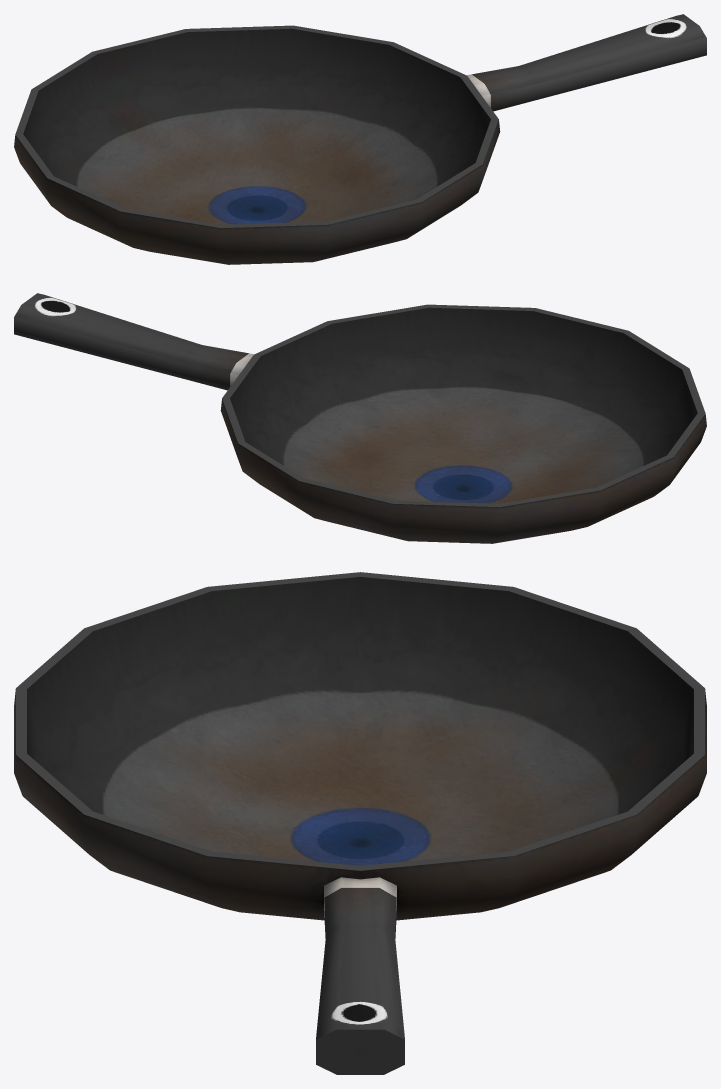
The model's file is Frying_Pan.FBX.
3 renders of one model, top to bottom at view 1: azimuth 30°, elevation 25°; view 2: azimuth 150°, elevation 25°; view 3: azimuth 270°, elevation 25°, orthographic. The views are drawn at different scales.
Visible parts, largest first — view 1: mafia_frying_pan; view 2: mafia_frying_pan; view 3: mafia_frying_pan.
Boxes of the visible parts, box(x1,y1,x2,y2) form: mafia_frying_pan: box(14, 14, 706, 264); mafia_frying_pan: box(14, 293, 706, 543); mafia_frying_pan: box(14, 572, 706, 1074).
Size of the model in its own units: 43.99 by 5.71 by 28.05.
